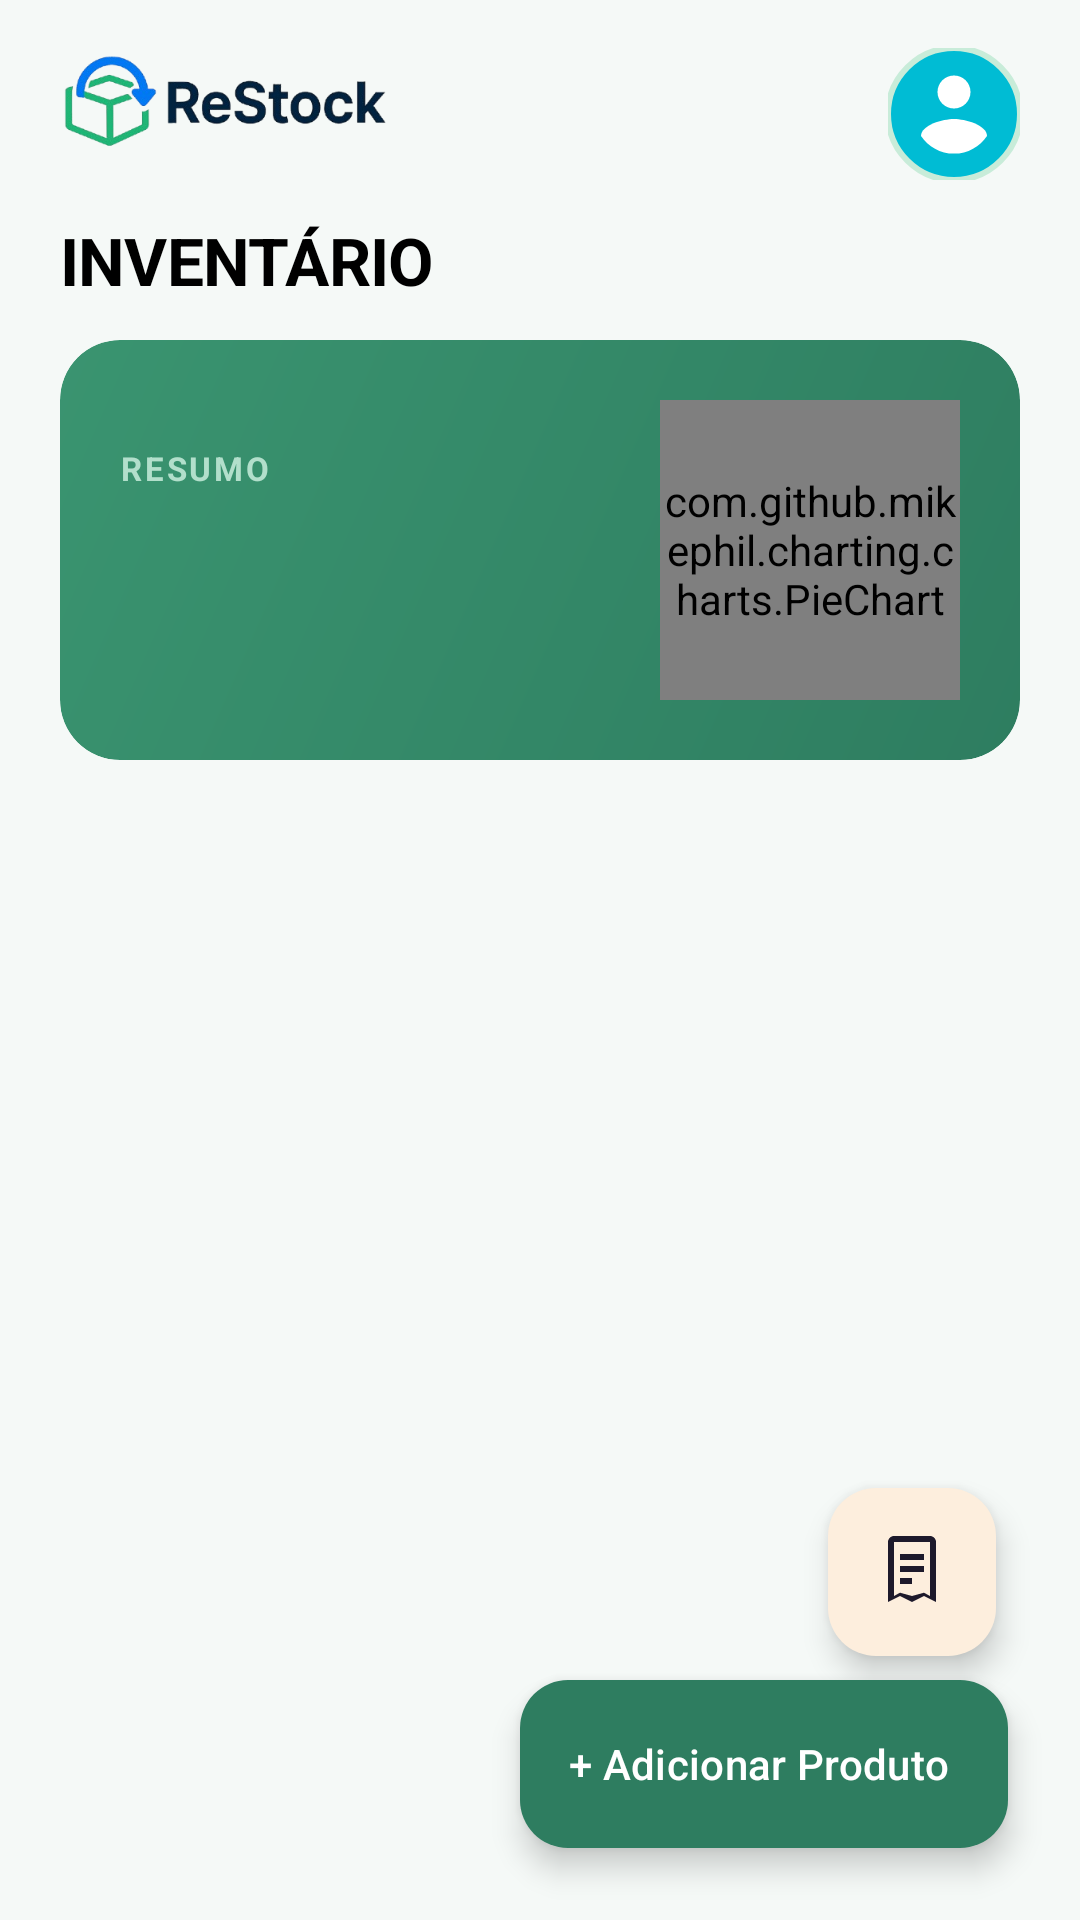

Icons on this 1080*1920 Android screen, each with its box as (x1, y1, x2, y2):
Importar Fatura: (828, 1488, 996, 1656)
